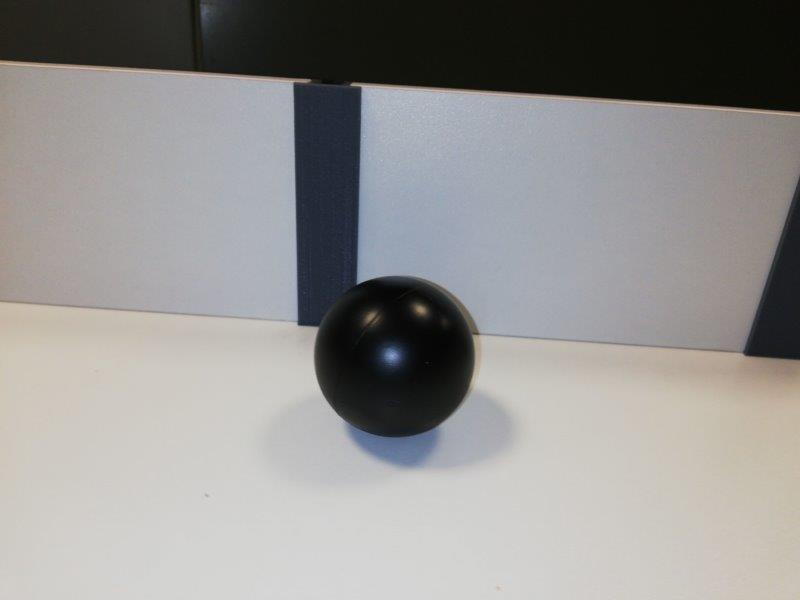nera: (316, 276, 474, 437)
